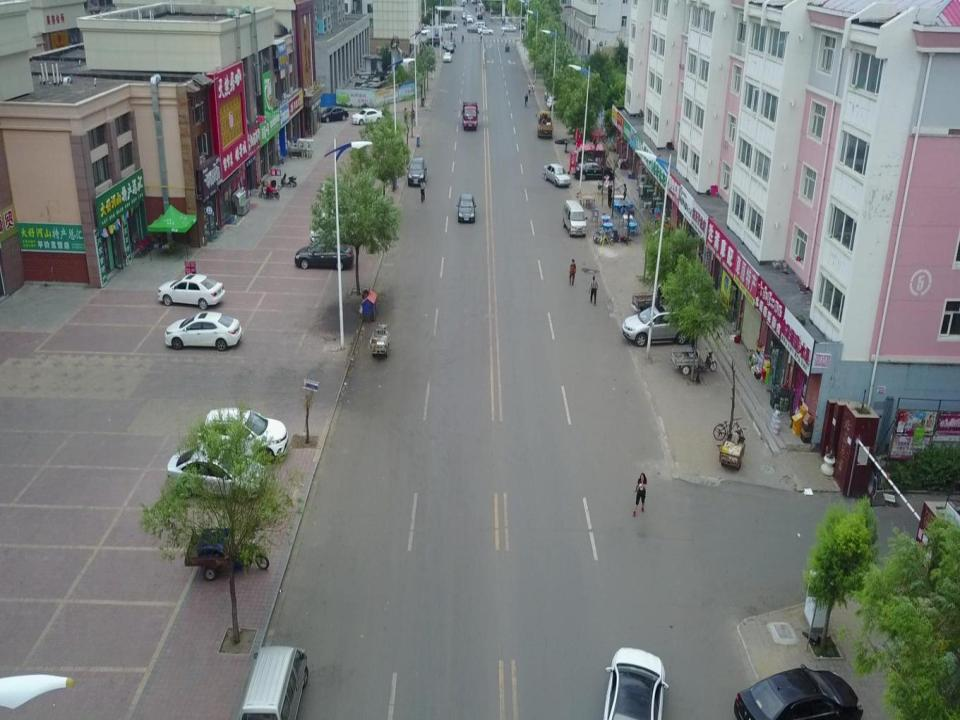car: (736, 664, 864, 720), (166, 445, 265, 500), (198, 408, 286, 465), (604, 644, 668, 720), (166, 312, 242, 352), (622, 307, 691, 346), (158, 274, 224, 310), (294, 241, 354, 270), (575, 162, 614, 181), (542, 163, 571, 187), (406, 156, 427, 186), (456, 193, 476, 223), (318, 105, 350, 122), (351, 108, 382, 124), (446, 41, 455, 52), (444, 52, 452, 62)
truck: (461, 101, 479, 131), (535, 110, 554, 138)
van: (239, 644, 308, 720), (562, 200, 586, 237)
